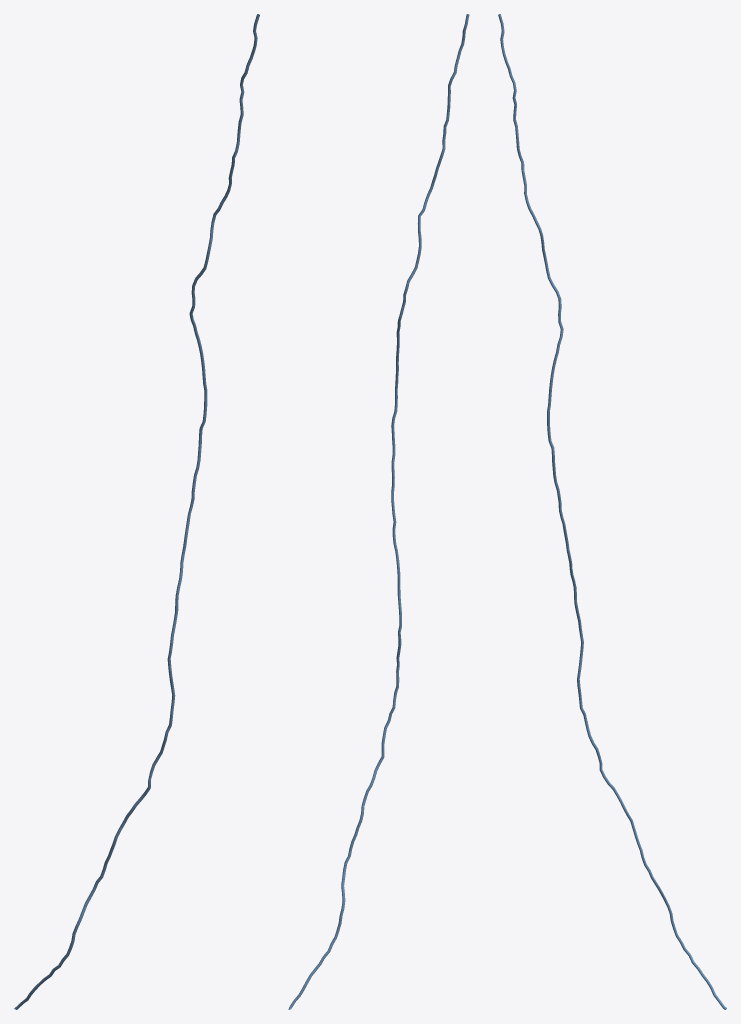
File: sweep27.fbx
The picture shows the model from 3 angles, left to right: view 1: azimuth 90°, elevation 25°; view 2: azimuth 150°, elevation 25°; view 3: azimuth 270°, elevation 25°; orthographic projection. The views are drawn at different scales.
Visible parts, largest first — view 1: sweep27; view 2: sweep27; view 3: sweep27.
Part boxes in pixels (bbox=[...]): sweep27: bbox=[14, 14, 259, 1009]; sweep27: bbox=[288, 14, 469, 1009]; sweep27: bbox=[498, 14, 726, 1009].
Bounding box in the file's own units: 0.5649 × 7.09 × 1.53.
